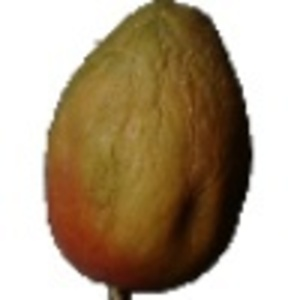mamão: (34, 1, 260, 292)
